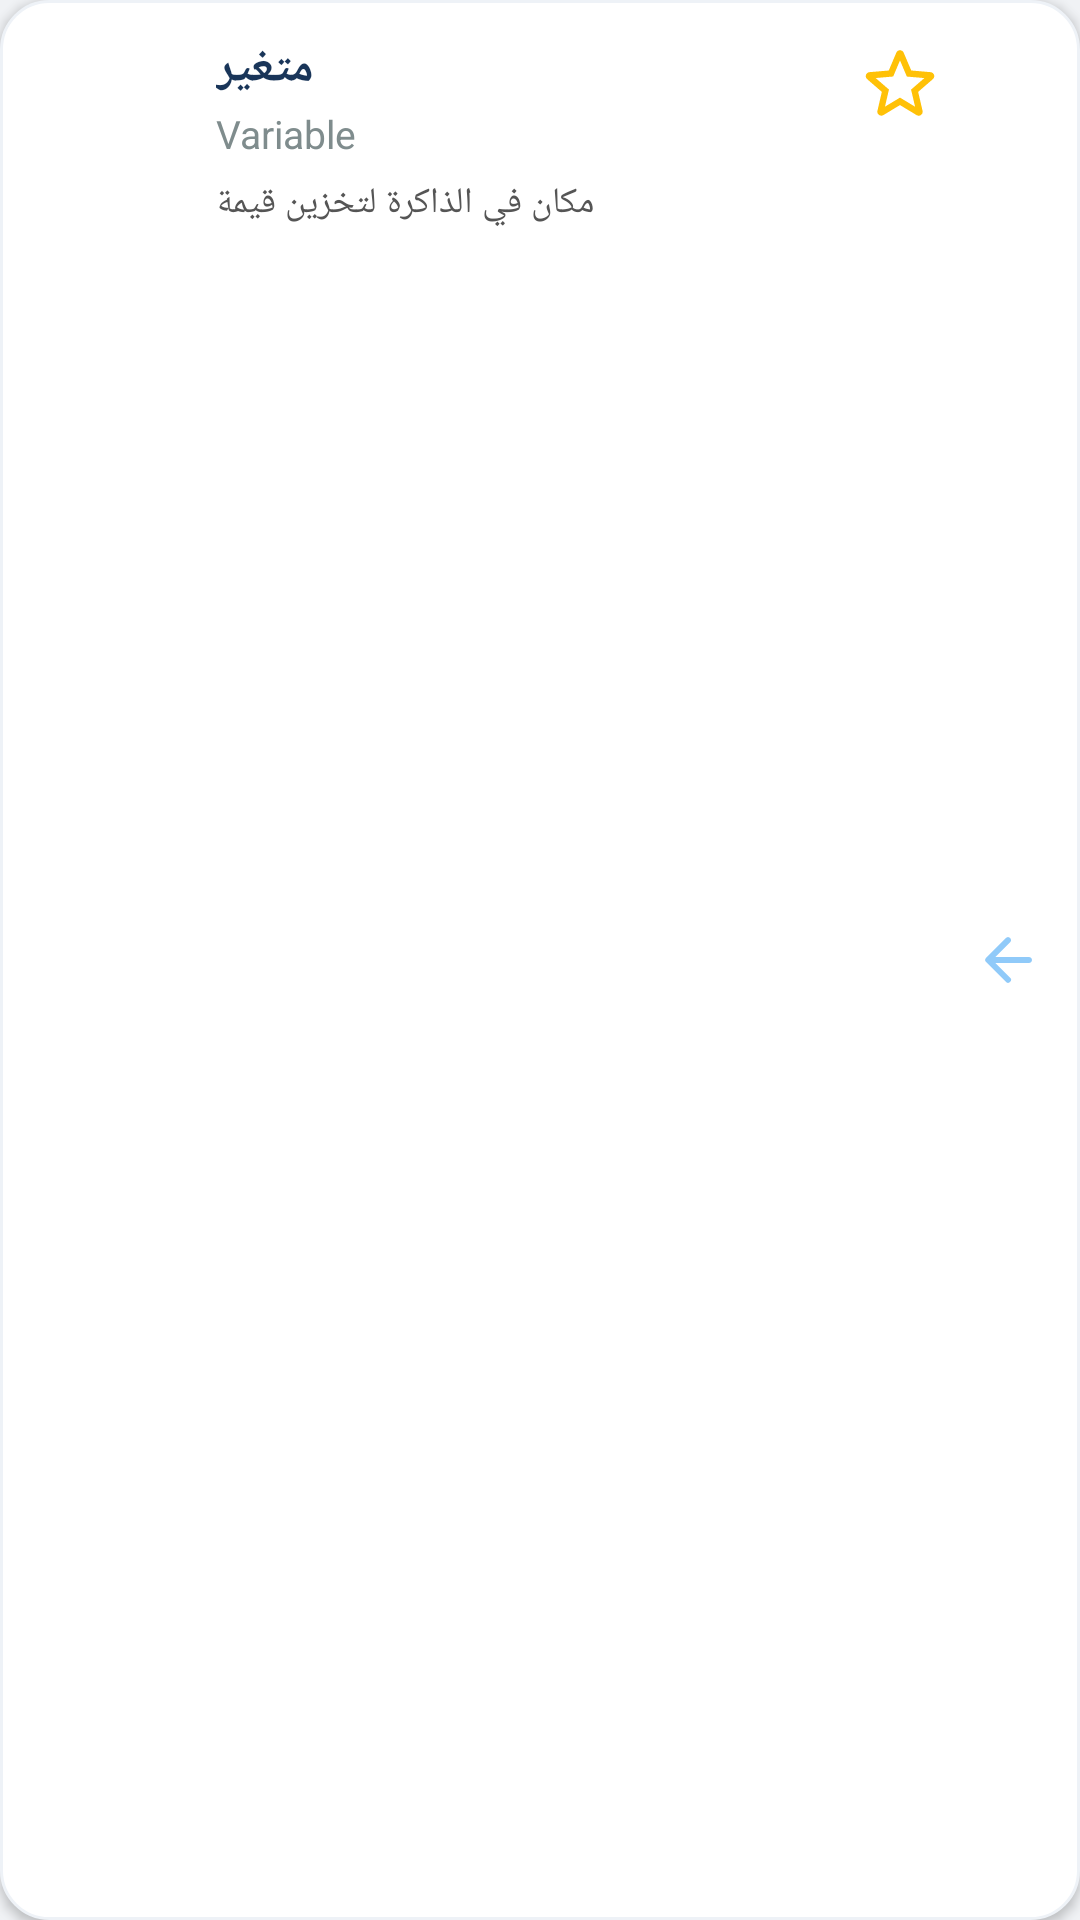

Where to tap for icons on this 1080px×1920px app screen, as point (x, y):
arrow: point (1008, 960)
star empty: point (900, 83)
